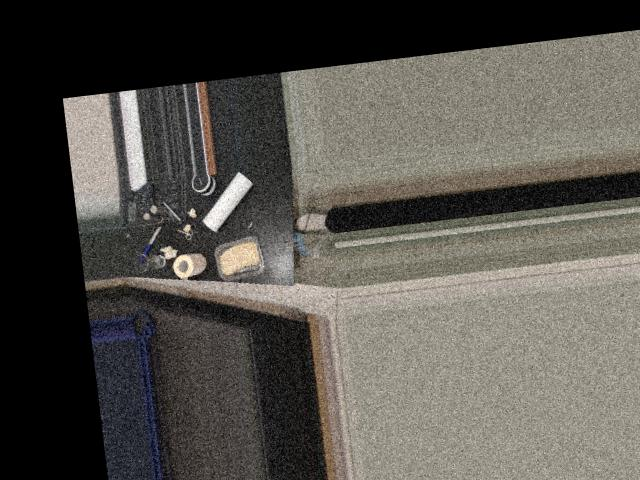cheese: (211, 232, 271, 283)
